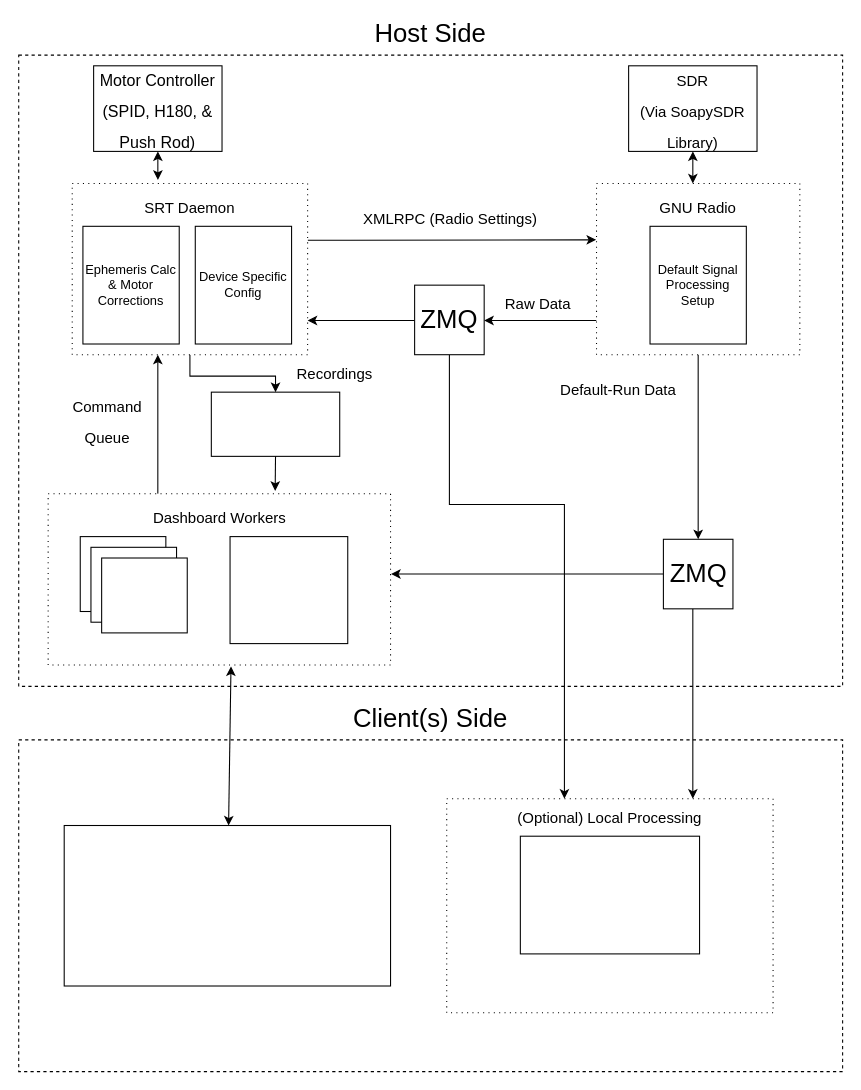
Image size: 861x1090. Some labels were removed from this diagram. The centre of each missing label's shape, as x and y in pixels:
Filesystem: point (275, 423)
GNU Radio Scripts Library: point (609, 894)
Processed Data Display & Send Commands to Daemon: point (288, 590)
User Browser: point (227, 905)
